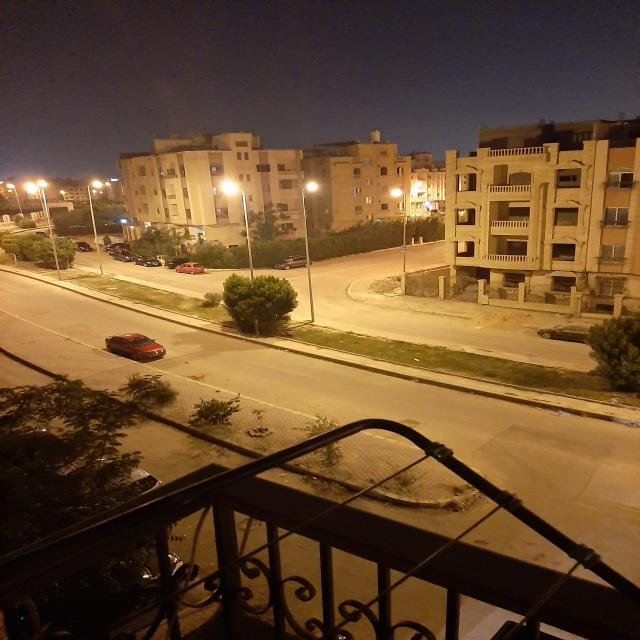Street Light: (219, 181, 256, 305), (301, 182, 319, 323), (87, 181, 104, 275), (391, 189, 406, 272), (7, 184, 24, 214)
